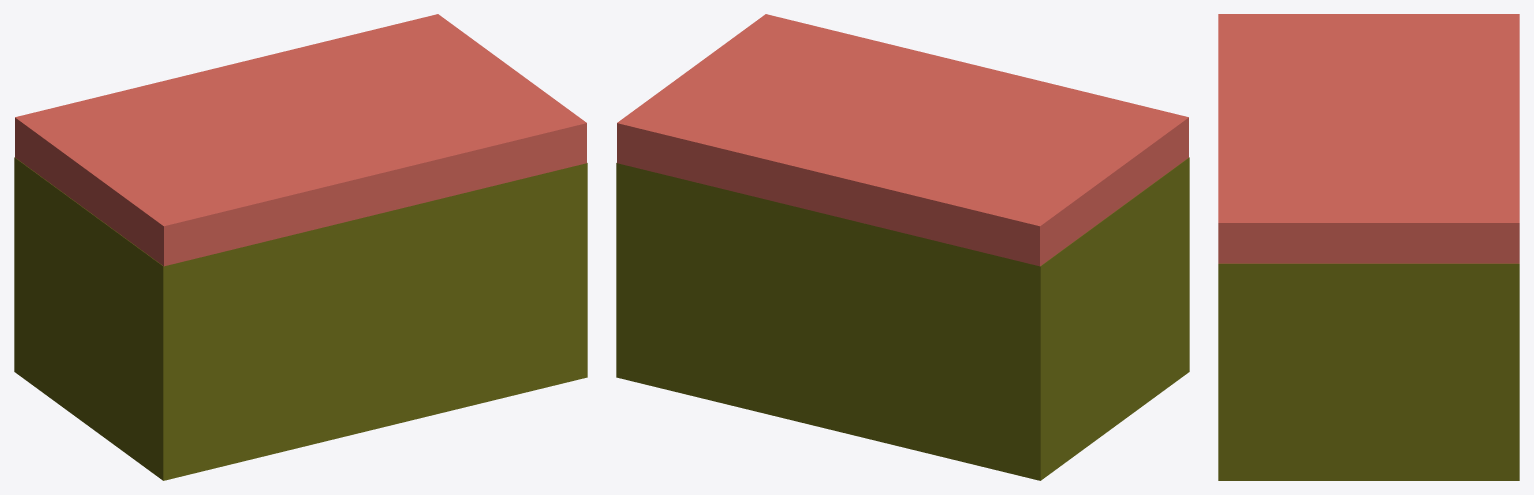
Rendered from opening_box.fbx.
3 renders of one model, left to right at view 1: azimuth 30°, elevation 25°; view 2: azimuth 150°, elevation 25°; view 3: azimuth 270°, elevation 25°, orthographic.
Parts seen in each view (by area): view 1: Box, Lid; view 2: Box, Lid; view 3: Lid, Box.
Boxes of the visible parts, left/top/right/bottom form: Box: left=14, top=157, right=587, bottom=480; Lid: left=15, top=14, right=586, bottom=266; Box: left=616, top=157, right=1189, bottom=480; Lid: left=617, top=14, right=1188, bottom=266; Lid: left=1218, top=14, right=1519, bottom=263; Box: left=1218, top=263, right=1519, bottom=480.
Bounding box in the file's own units: 125 × 71.42 × 75.77.
